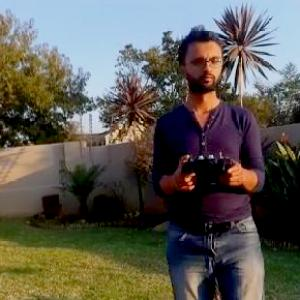follow: (147, 17, 270, 299)
